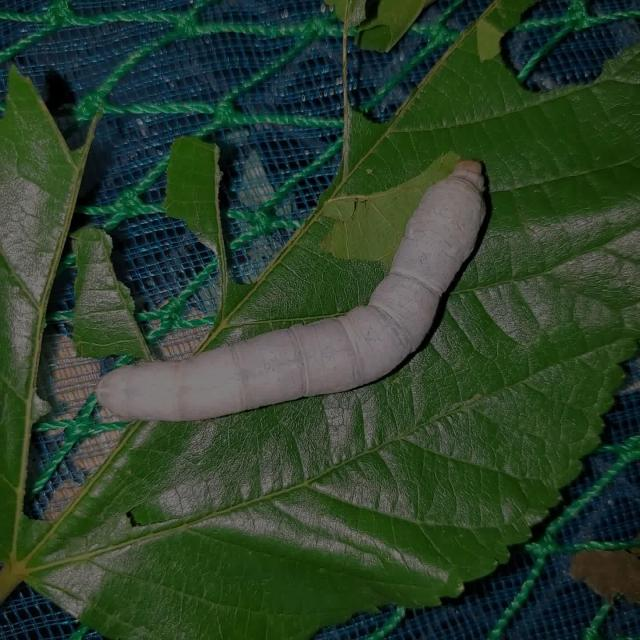Healthy: (82, 151, 508, 429)
